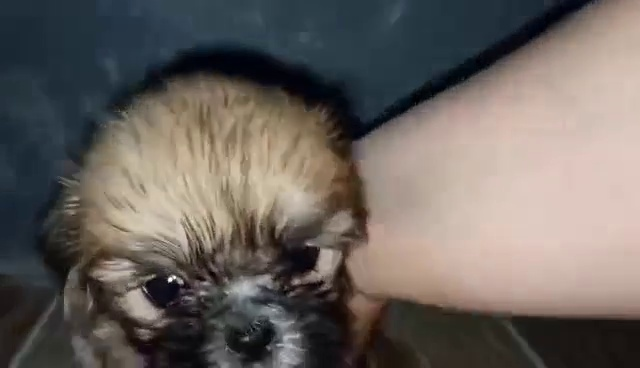dog: (1, 51, 368, 368)
